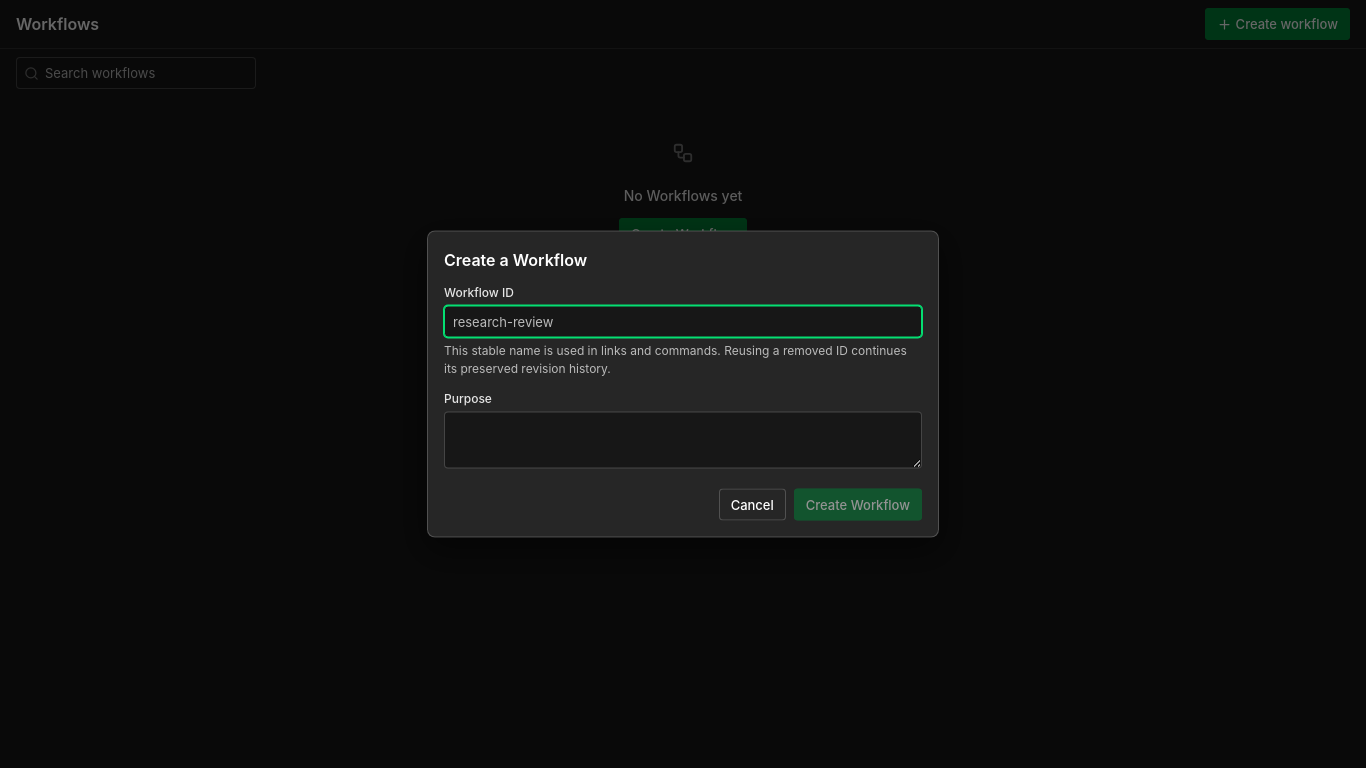
Test: Workflow library › opens the create dialog from the sidebar route request
Expected: the dialog "Create a Workflow" is shown, top-left (427, 230), bottom-right (939, 538)
Click the button "Cancel" at (752, 504), box top-left (719, 488), bottom-right (786, 520)
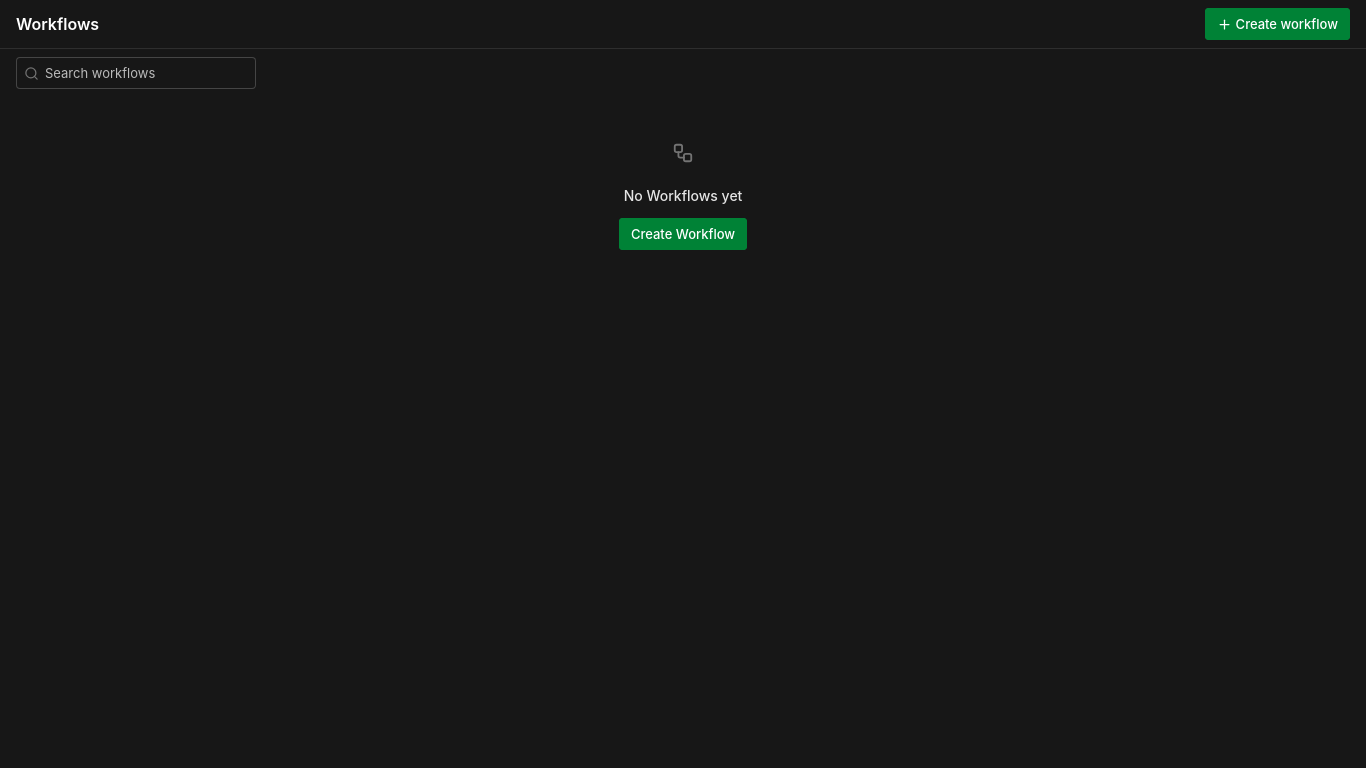
Expected: the heading "Create a Workflow" is gone
